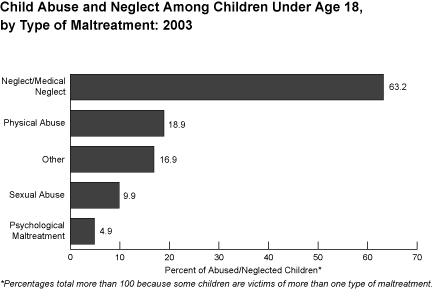canvas: (73, 68, 419, 246)
data: (1, 278, 431, 287)
title: (1, 1, 368, 30)
x-axis: (68, 248, 423, 253)
x-labels: (68, 253, 426, 262)
x-title: (163, 265, 323, 276)
y-axis: (67, 71, 73, 257)
y-labels: (1, 75, 66, 242)
